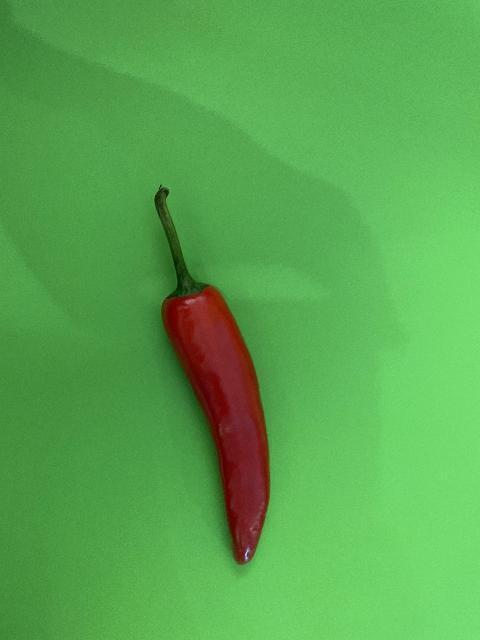chilli: (153, 186, 271, 566)
